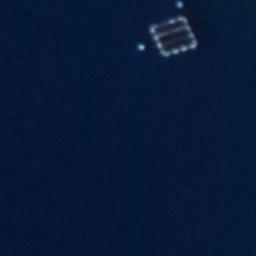square_solid: (147, 11, 199, 59)
